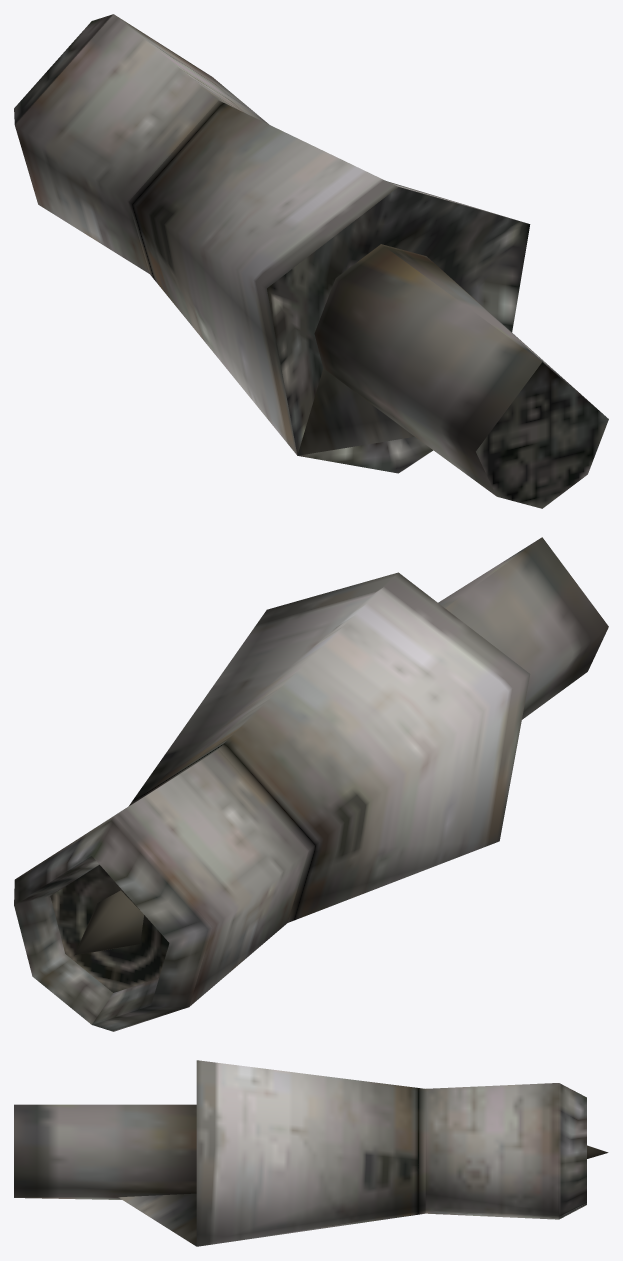
File: hutt_fighter_light_engine_s01_l2.fbx
The picture shows the model from 3 angles, top to bottom: view 1: azimuth 30°, elevation 25°; view 2: azimuth 150°, elevation 25°; view 3: azimuth 270°, elevation 25°; orthographic projection. The views are drawn at different scales.
Parts seen in each view (by area): view 1: mesh_node; view 2: mesh_node; view 3: mesh_node.
Boxes of the visible parts, x1,y1,x2,y2 form: mesh_node: (14,14,608,508); mesh_node: (14,537,608,1031); mesh_node: (14,1060,608,1246).
Size of the model in its own units: 2.36 by 2.45 by 7.25.
Materials: 1 (1 with a texture image).
